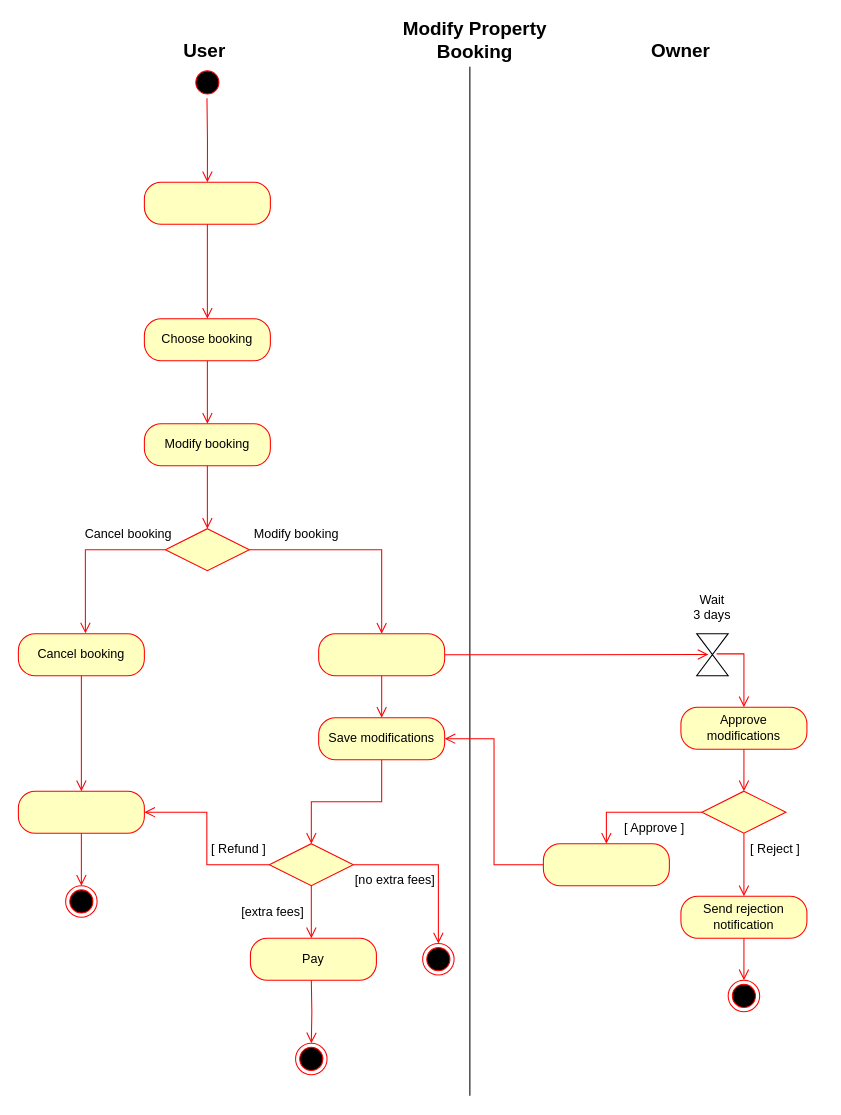
This 841x1115 diagram has some shape labels left out. The centre of each missing label's shape, as x and y in pixels:
Enter modification details: pixel 381 654
Go to my bookings: pixel 206 202
Refund booking payment: pixel 80 811
Send approval notification: pixel 605 864
